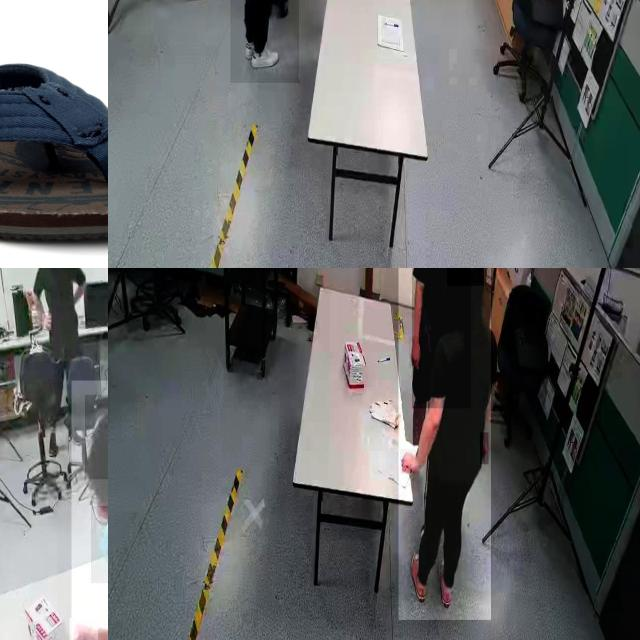Sandals: (0, 46, 108, 247)
face_mask: (91, 505, 108, 583)
glasses: (86, 496, 108, 535)
hand_noglove: (69, 618, 98, 640), (400, 449, 420, 475), (409, 336, 421, 369), (480, 432, 489, 466), (42, 313, 52, 331)
head_nohelmet: (84, 394, 108, 480), (447, 268, 484, 286)
person: (398, 268, 491, 621), (71, 380, 108, 640), (412, 268, 471, 408), (230, 0, 299, 83), (32, 268, 87, 362)
shoes: (248, 40, 280, 74), (437, 555, 455, 610), (408, 549, 427, 601)
